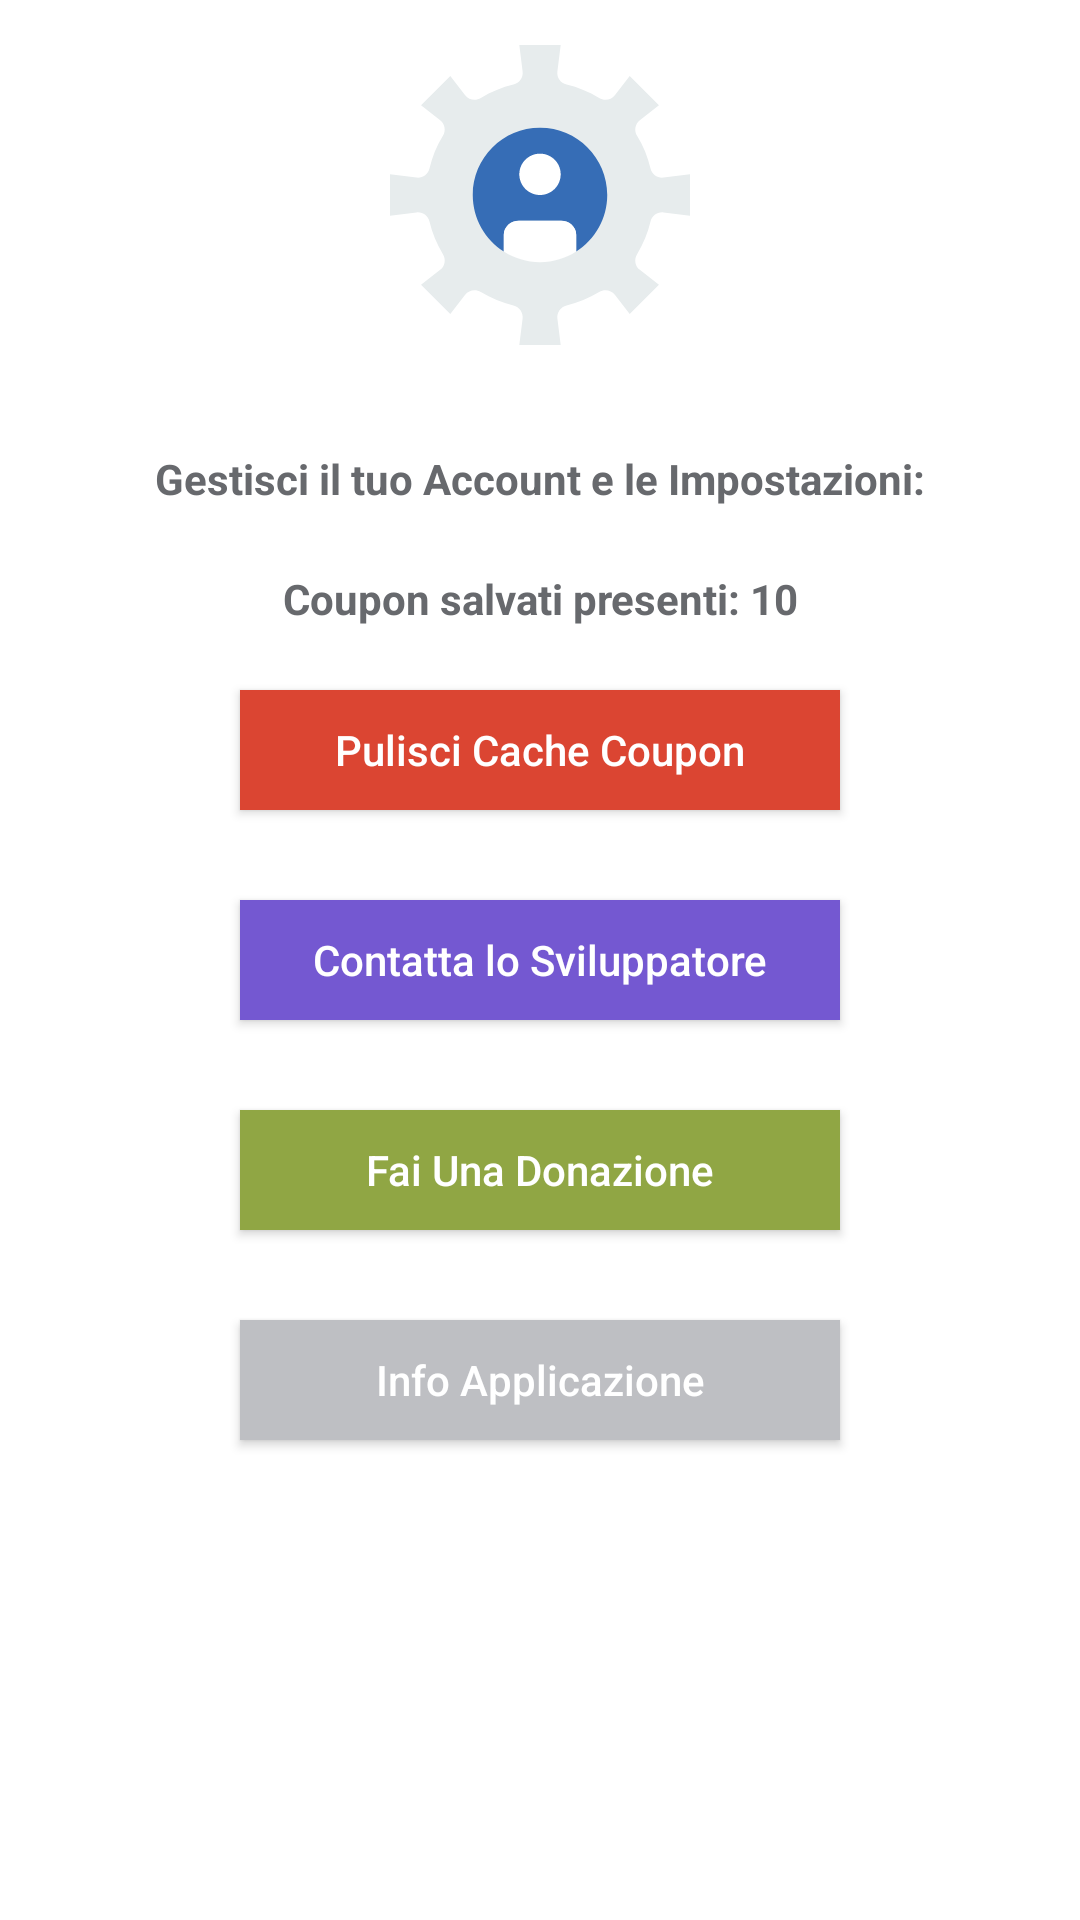

Icon bounding boxes for this 1080px×1920px phone screenshot, format [x1=x1, y1=y1, x2=x2, y2=y2]:
user: [x1=472, y1=127, x2=608, y2=252]
